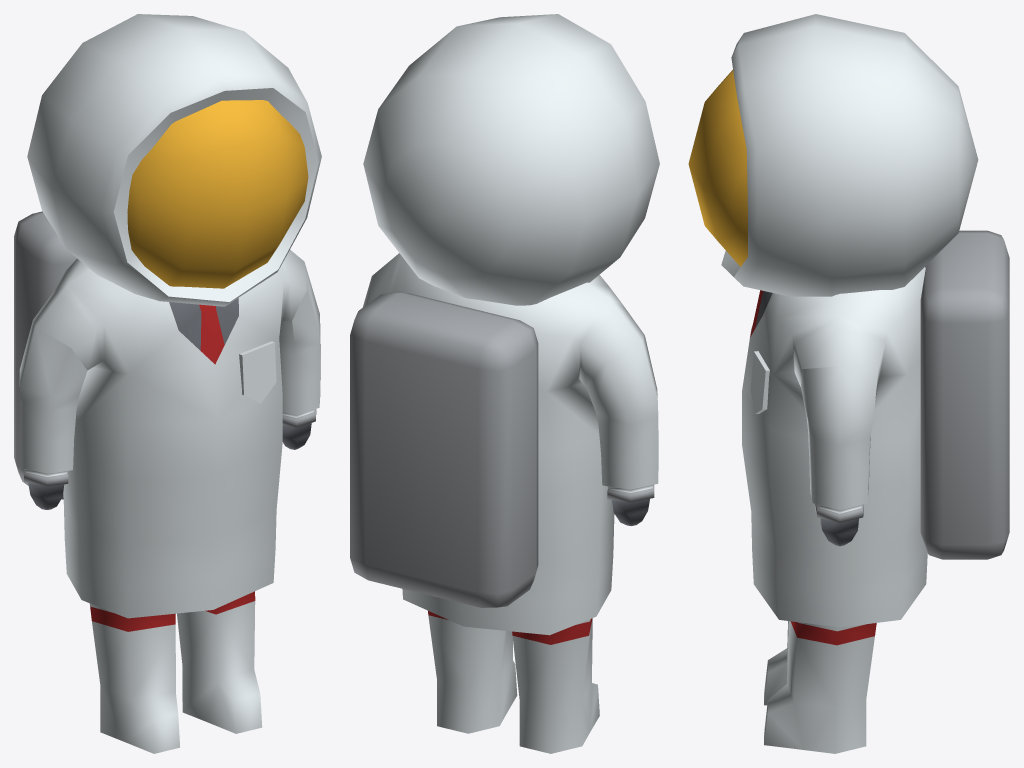
File: Researcher.fbx
3 renders of one model, left to right at view 1: azimuth 30°, elevation 25°; view 2: azimuth 150°, elevation 25°; view 3: azimuth 270°, elevation 25°, orthographic.
Visible parts, largest first — view 1: Cylinder002; view 2: Cylinder002; view 3: Cylinder002.
Boxes of the visible parts, <box> form: Cylinder002: <box>14,14,321,753</box>; Cylinder002: <box>350,14,659,753</box>; Cylinder002: <box>688,14,1009,753</box>.
Size of the model in its own units: 0.2114 by 0.1954 by 0.465.
Materials: 1 (1 with a texture image).
